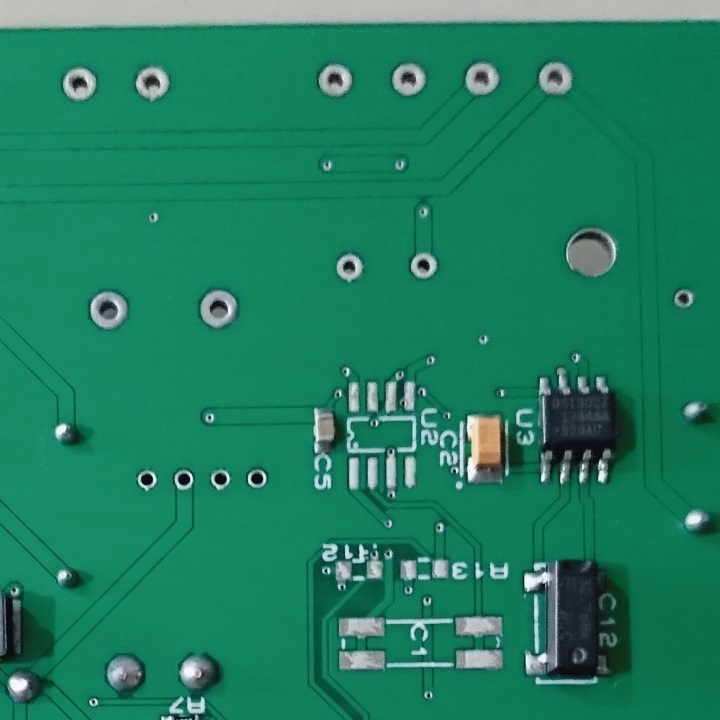F: (86, 286, 131, 331), (197, 284, 240, 330), (536, 58, 576, 101), (461, 60, 505, 98), (389, 59, 429, 100), (316, 63, 358, 100), (131, 60, 169, 100), (60, 63, 98, 100), (330, 251, 367, 286), (407, 251, 440, 283), (133, 466, 159, 492), (206, 466, 233, 491), (243, 466, 267, 491), (170, 468, 197, 490), (673, 285, 696, 310)
